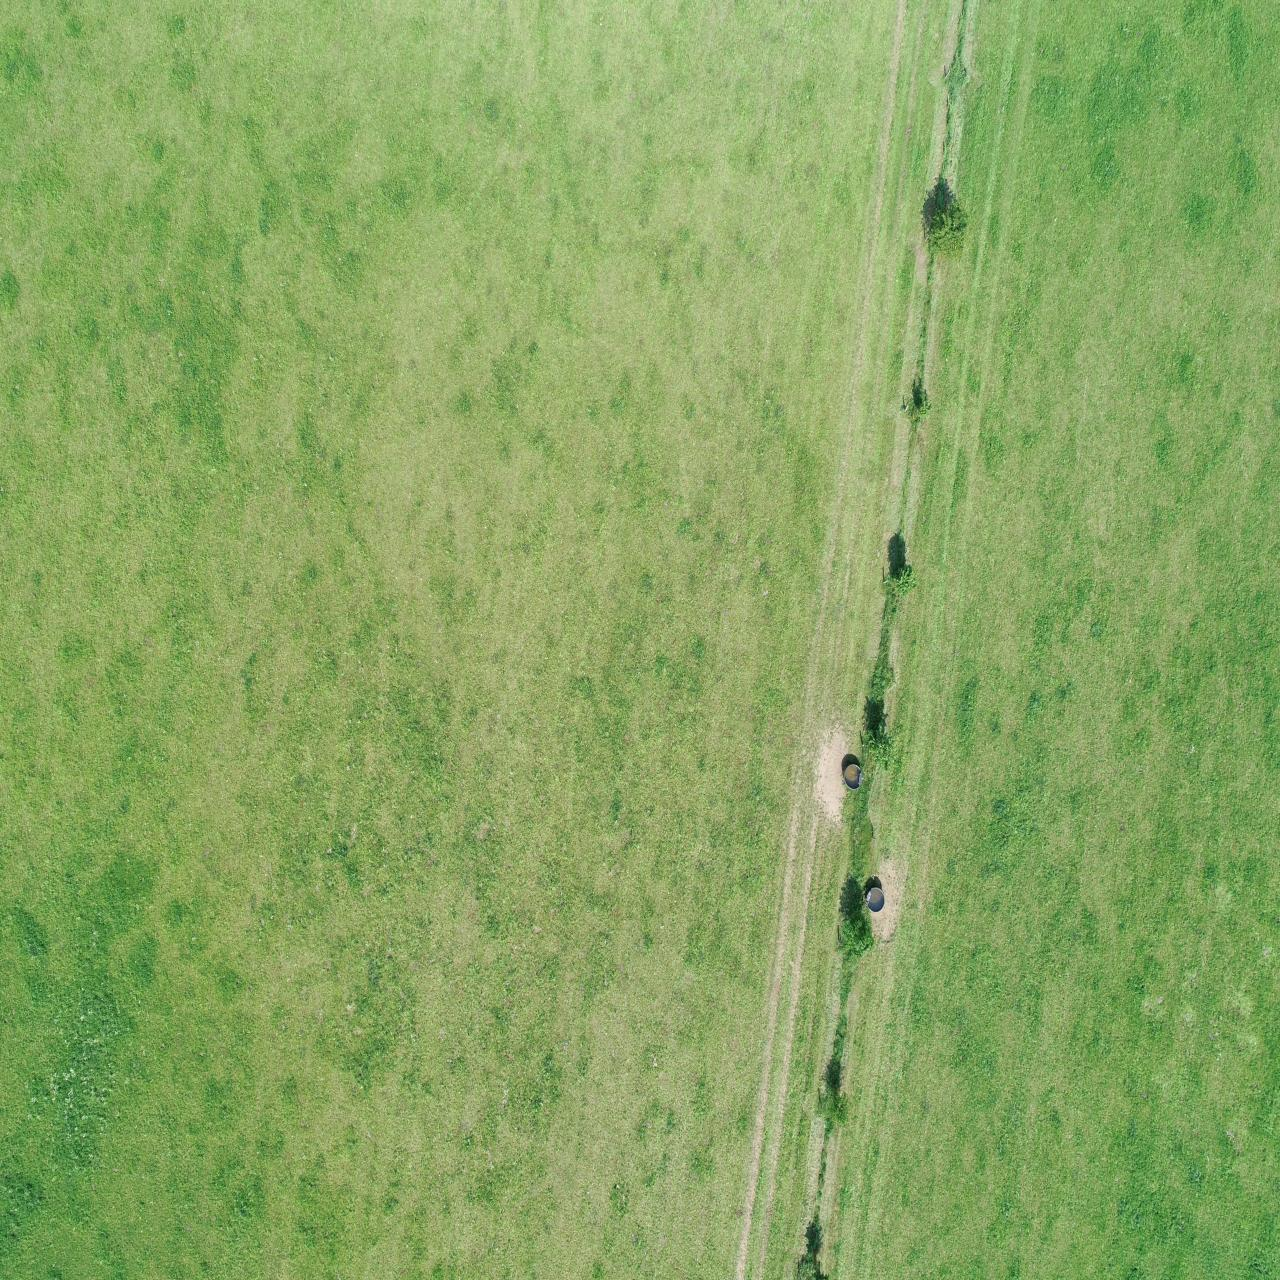cow: (165, 809, 196, 890), (41, 1002, 101, 1042), (15, 978, 63, 1027), (40, 715, 69, 795), (115, 261, 149, 329), (70, 871, 115, 915)
